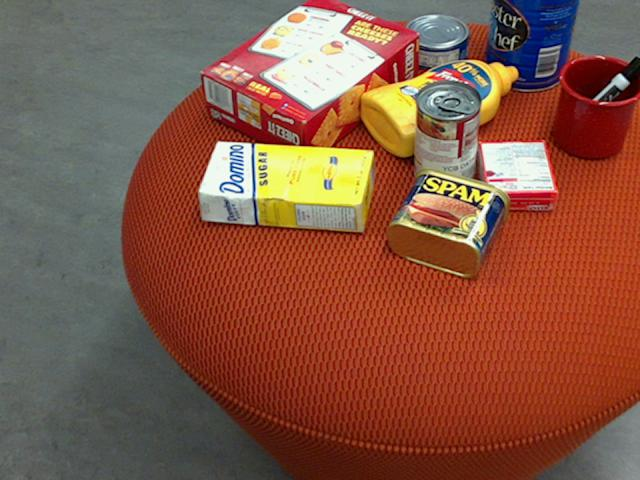cracker_box: (199, 0, 418, 164)
gelatin_box: (478, 141, 558, 211)
large_marker: (557, 54, 639, 140)
master_chef_can: (483, 0, 579, 90)
mug: (552, 54, 639, 158)
mustard_bottle: (359, 60, 518, 156)
potted_meat_can: (386, 166, 508, 276)
sugar_box: (195, 140, 373, 232)
tomato_soup_can: (413, 78, 480, 192)
tuna_fish_can: (401, 14, 469, 69)
